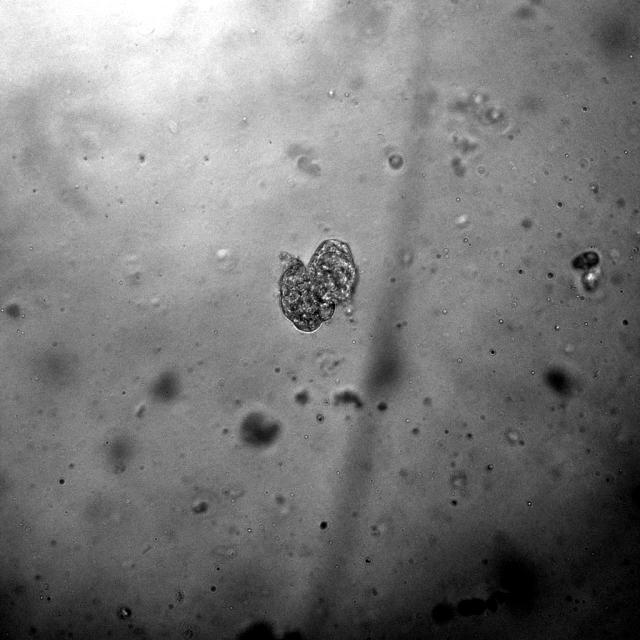organoid: (279, 239, 358, 333), (240, 411, 280, 446), (572, 249, 602, 293), (150, 370, 179, 401), (545, 367, 573, 396), (236, 621, 276, 639), (332, 388, 363, 408), (388, 153, 403, 169), (295, 390, 309, 405), (192, 501, 209, 513), (319, 520, 328, 530), (378, 402, 386, 411)
